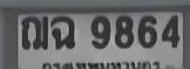4: (161, 14, 178, 47)
6: (137, 15, 156, 47)
8: (114, 15, 133, 47)
9: (90, 15, 109, 48)
A09: (50, 16, 74, 49)
A12: (21, 15, 48, 50)
